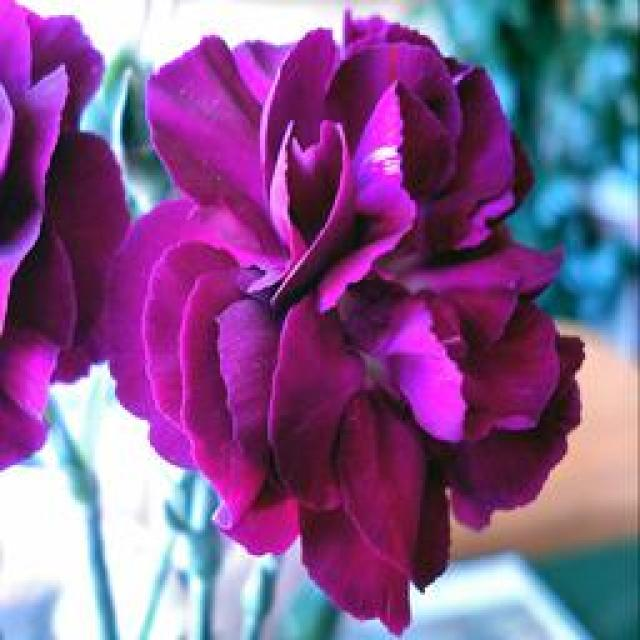carnation: (117, 29, 598, 591)
